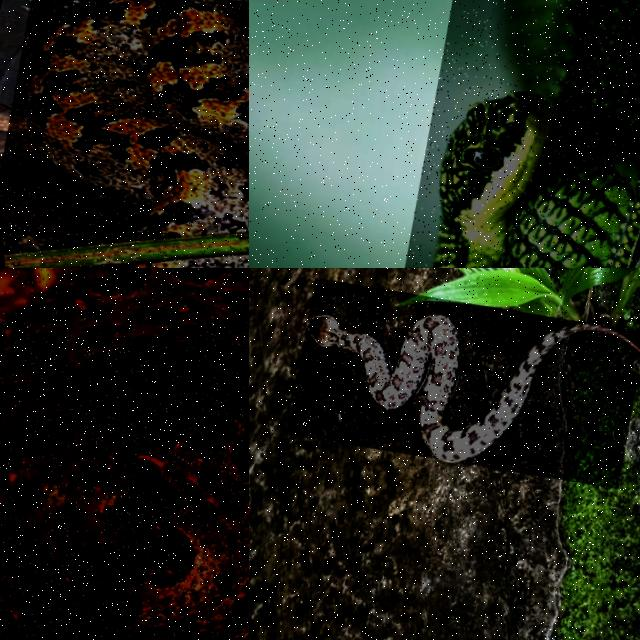Chrysopelea ornata: (434, 0, 639, 267)
Daboia siamensis: (0, 268, 248, 639)
Ovophis monticola: (28, 0, 248, 236), (307, 315, 639, 462)
snake: (0, 268, 248, 639), (434, 0, 639, 267), (28, 0, 248, 236), (307, 315, 639, 462)
